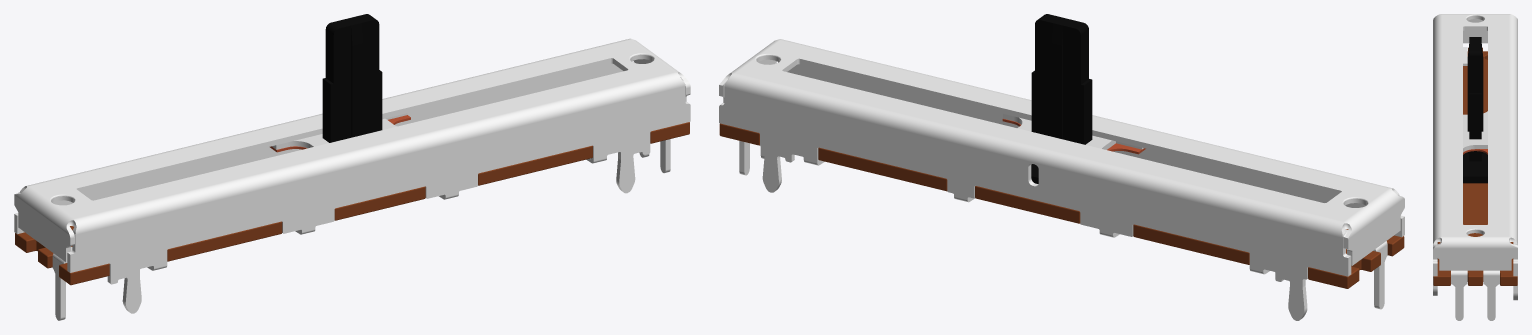
The model's file is fader_Bourns_45mm.glb.
3 renders of one model, left to right at view 1: azimuth 30°, elevation 25°; view 2: azimuth 150°, elevation 25°; view 3: azimuth 270°, elevation 25°, orthographic. The views are drawn at different scales.
Visible parts, largest first — view 1: Solid3, Solid6, Solid1, Solid4; view 2: Solid3, Solid6, Solid1, Solid4; view 3: Solid3, Solid1, Solid6, Solid4, Solid5.
Boxes of the visible parts, bbox=[...] form: Solid3: bbox=[14, 38, 690, 320]; Solid6: bbox=[322, 14, 382, 142]; Solid1: bbox=[15, 122, 689, 285]; Solid4: bbox=[272, 113, 407, 149]; Solid3: bbox=[719, 39, 1404, 320]; Solid6: bbox=[1031, 14, 1092, 183]; Solid1: bbox=[719, 123, 1404, 288]; Solid4: bbox=[1003, 114, 1143, 149]; Solid3: bbox=[1433, 14, 1517, 320]; Solid1: bbox=[1433, 48, 1517, 285]; Solid6: bbox=[1463, 37, 1487, 183]; Solid4: bbox=[1463, 111, 1487, 152]; Solid5: bbox=[1463, 149, 1487, 154].
Bounding box in the file's own units: 0.0601 × 0.0201 × 0.0094.
